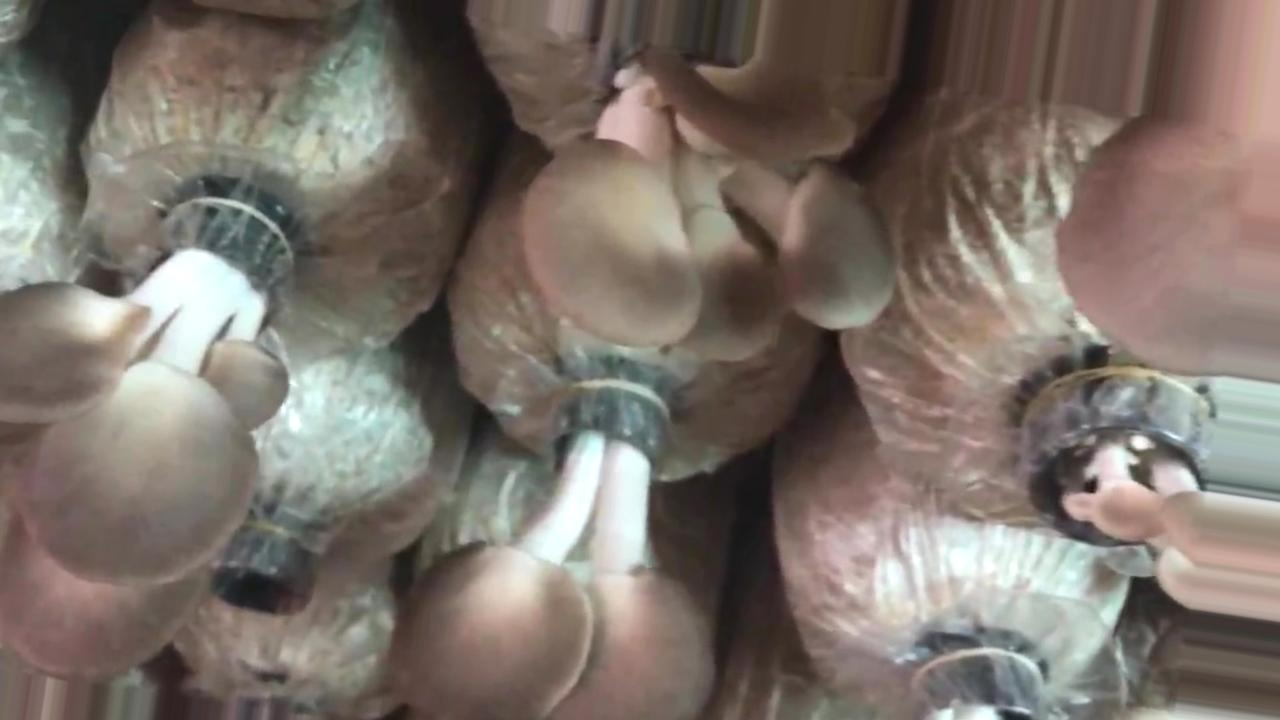nam: (2, 205, 291, 680), (525, 1, 897, 364), (388, 380, 716, 720), (1057, 113, 1280, 374), (1041, 382, 1280, 615)
